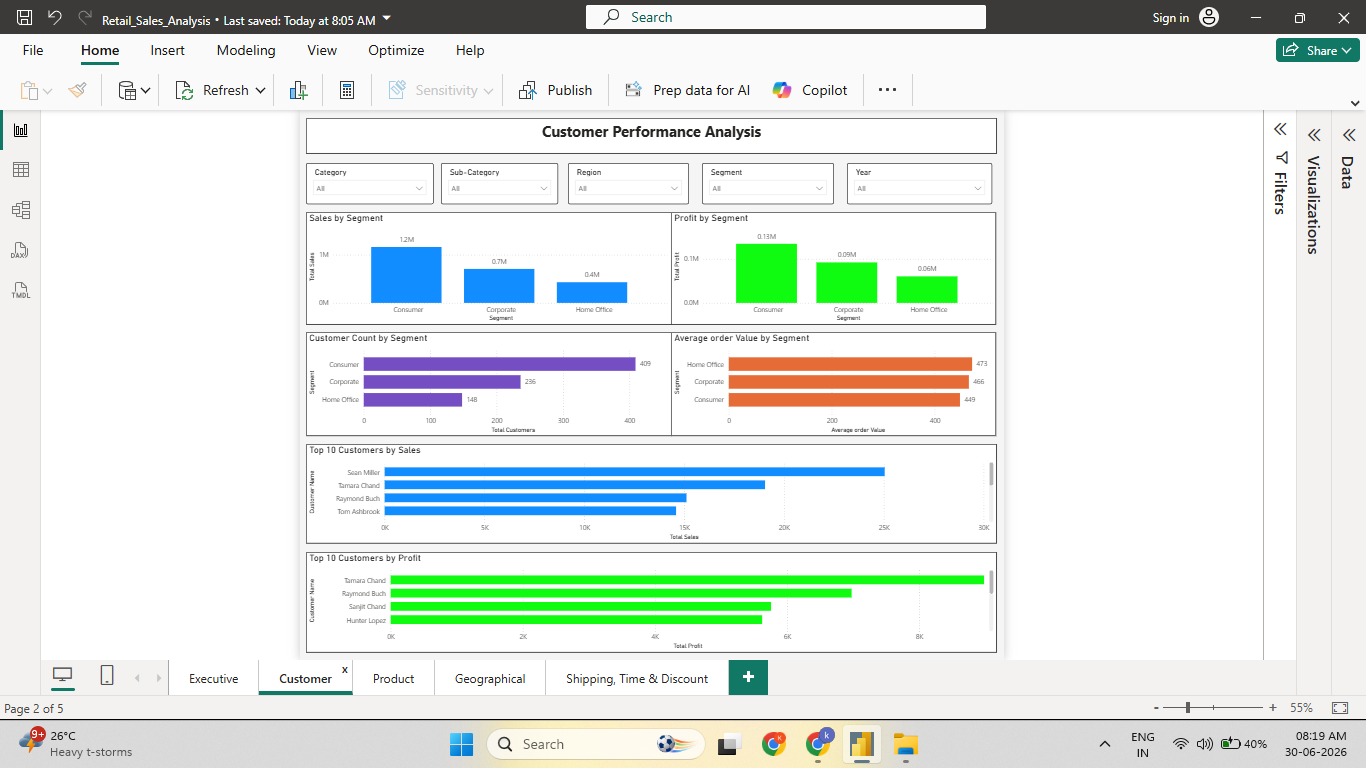

This screenshot's page, from the dashboard's own definition file:
{"tool":"powerbi","page":{"name":"Customer ","canvas":[1280,1000],"ordinal":1},"visuals":[{"type":"clusteredColumnChart","title":"Sales by Segment","fields":{"Category":["orders.Segment"],"Y":["Measures (2).Total Sales"]},"box":[10.2,185,664.6,205.3],"z":0},{"type":"clusteredColumnChart","title":"Profit by Segment","fields":{"Category":["orders.Segment"],"Y":["Measures (2).Total Profit"]},"box":[674.8,185,591.5,205.3],"z":1000},{"type":"barChart","title":"Customer Count by Segment","fields":{"Y":["Measures (2).Total Customers"],"Category":["orders.Segment"]},"box":[10.2,404.5,664.6,189],"z":2000},{"type":"clusteredBarChart","fields":{"Category":["orders.Segment"],"Y":["Measures (2).Average order Value"]},"box":[674.8,404.5,591.5,189],"z":3000},{"type":"barChart","title":"Top 10 Customers by Sales","fields":{"Category":["orders.Customer Name"],"Y":["Measures (2).Total Sales"]},"box":[10.2,607.7,1256.1,180.9],"z":4000},{"type":"barChart","title":"Top 10 Customers by Profit","fields":{"Category":["orders.Customer Name"],"Y":["Measures (2).Total Profit"]},"box":[10.2,802.8,1256.1,182.9],"z":5000},{"type":"textbox","box":[10.2,14.2,1256.1,65],"z":6000},{"type":"slicer","fields":{"Values":["orders.Category"]},"box":[10.2,95.5,231.7,75.2],"z":7000},{"type":"slicer","fields":{"Values":["orders.Sub-Category"]},"box":[256.1,95.5,213.4,75.2],"z":8000},{"type":"slicer","fields":{"Values":["orders.Region"]},"box":[487.8,95.5,219.5,75.2],"z":9000},{"type":"slicer","fields":{"Values":["orders.Segment"]},"box":[731.7,95.5,239.8,75.2],"z":10000},{"type":"slicer","fields":{"Values":["orders.Order Date.Variation.Date Hierarchy.Year"]},"box":[993.9,95.5,264.2,75.2],"z":11000}]}

Visuals, with their boxes on the page's 1280x1000 design canvas (x1, y1, x2, y2). These are canvas units, not pixel positions in the 1366x768 screenshot, which may show the page scaled, cropped or inside an application window:
"Sales by Segment" clusteredColumnChart: [10,185,675,390]
"Profit by Segment" clusteredColumnChart: [675,185,1266,390]
"Customer Count by Segment" barChart: [10,404,675,594]
clusteredBarChart - orders.Segment x Measures (2).Average order Value: [675,404,1266,594]
"Top 10 Customers by Sales" barChart: [10,608,1266,789]
"Top 10 Customers by Profit" barChart: [10,803,1266,986]
textbox: [10,14,1266,79]
slicer - orders.Category: [10,96,242,171]
slicer - orders.Sub-Category: [256,96,470,171]
slicer - orders.Region: [488,96,707,171]
slicer - orders.Segment: [732,96,972,171]
slicer - orders.Order Date.Variation.Date Hierarchy.Year: [994,96,1258,171]
